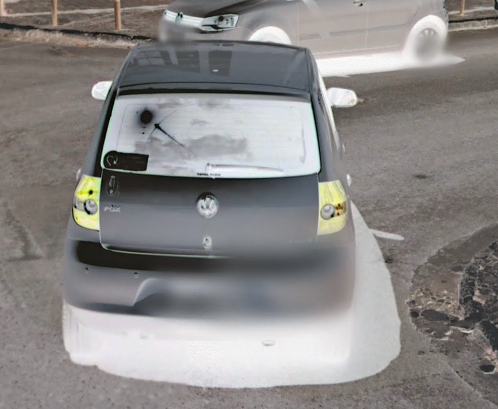car: (59, 33, 374, 357)
